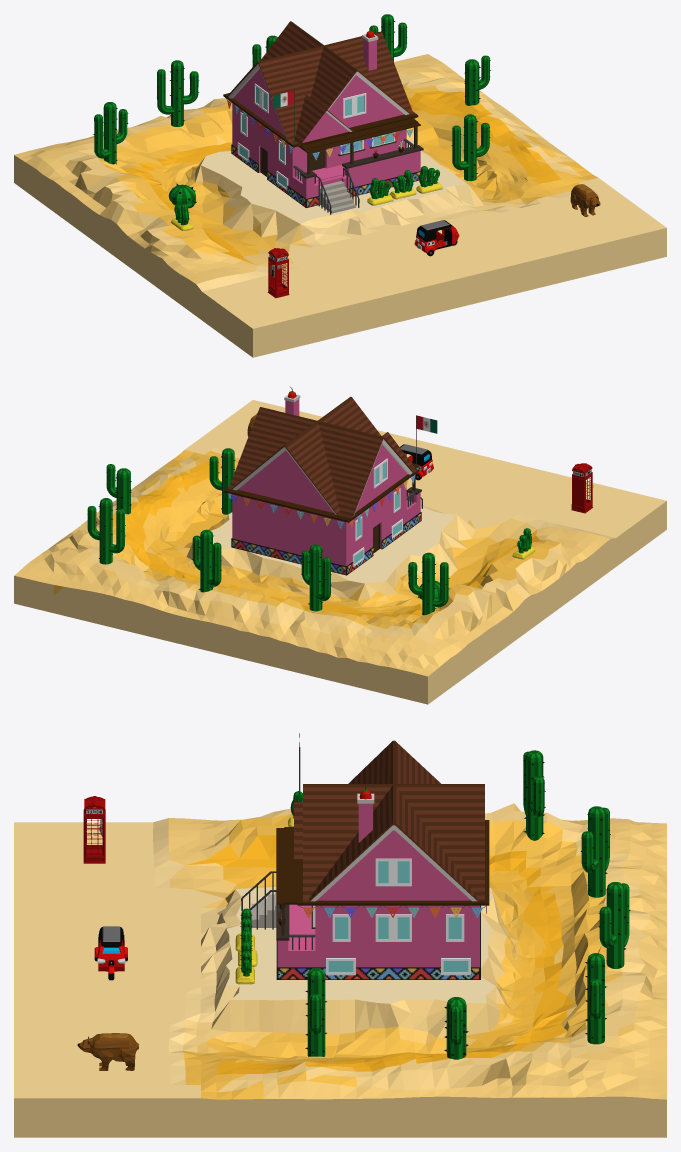
3 views of the same model, one above another, from view 1: azimuth 30°, elevation 25°; view 2: azimuth 150°, elevation 25°; view 3: azimuth 270°, elevation 25° (orthographic). The views are drawn at different scales.
Parts seen in each view (by area): view 1: Cube.001, Cube.1005, Cylinder.044, Cylinder.037, Cylinder.045, VEHICLES_TUC_TUC, OBJRANDOM_PHONEBOOTH, Cylinder.038, Cylinder.042, ANIMAL_OSO, Cylinder.039, Cylinder.041; view 2: Cube.001, Cube.1005, Cylinder.042, Cylinder.045, Cylinder.044, Cylinder.043, Cylinder.037, OBJRANDOM_PHONEBOOTH, Cylinder.038, VEHICLES_TUC_TUC; view 3: Cube.001, Cube.1005, Cylinder.043, Cylinder.044, Cylinder.045, Cylinder.037, Cylinder.042, ANIMAL_OSO, VEHICLES_TUC_TUC, OBJRANDOM_PHONEBOOTH, Cylinder.038, Cylinder.041.
Part boxes in pixels (<box>): Cube.001: <box>14,54,666,357</box>; Cube.1005: <box>223,21,423,214</box>; Cylinder.044: <box>157,60,199,126</box>; Cylinder.037: <box>451,114,490,181</box>; Cylinder.045: <box>93,102,128,164</box>; VEHICLES_TUC_TUC: <box>414,220,459,256</box>; OBJRANDOM_PHONEBOOTH: <box>267,248,289,298</box>; Cylinder.038: <box>464,55,490,105</box>; Cylinder.042: <box>369,14,407,61</box>; ANIMAL_OSO: <box>570,184,600,216</box>; Cylinder.039: <box>367,178,393,205</box>; Cylinder.041: <box>416,166,442,193</box>; Cube.001: <box>14,400,666,704</box>; Cube.1005: <box>224,386,437,575</box>; Cylinder.042: <box>87,498,125,564</box>; Cylinder.045: <box>408,552,449,615</box>; Cylinder.044: <box>301,544,331,611</box>; Cylinder.043: <box>192,529,221,592</box>; Cylinder.037: <box>209,448,239,514</box>; OBJRANDOM_PHONEBOOTH: <box>571,463,593,513</box>; Cylinder.038: <box>106,464,131,514</box>; VEHICLES_TUC_TUC: <box>400,444,433,480</box>; Cube.001: <box>14,803,666,1137</box>; Cube.1005: <box>241,733,489,979</box>; Cylinder.043: <box>598,882,630,968</box>; Cylinder.044: <box>580,806,610,897</box>; Cylinder.045: <box>523,750,545,840</box>; Cylinder.037: <box>305,968,326,1056</box>; Cylinder.042: <box>585,953,606,1044</box>; ANIMAL_OSO: <box>77,1033,138,1070</box>; VEHICLES_TUC_TUC: <box>94,926,127,980</box>; OBJRANDOM_PHONEBOOTH: <box>83,796,105,863</box>; Cylinder.038: <box>444,997,468,1059</box>; Cylinder.041: <box>235,941,254,984</box>.
Size of the model in its own units: 4002 by 1736 by 4001.
75 materials, 5 textured.
